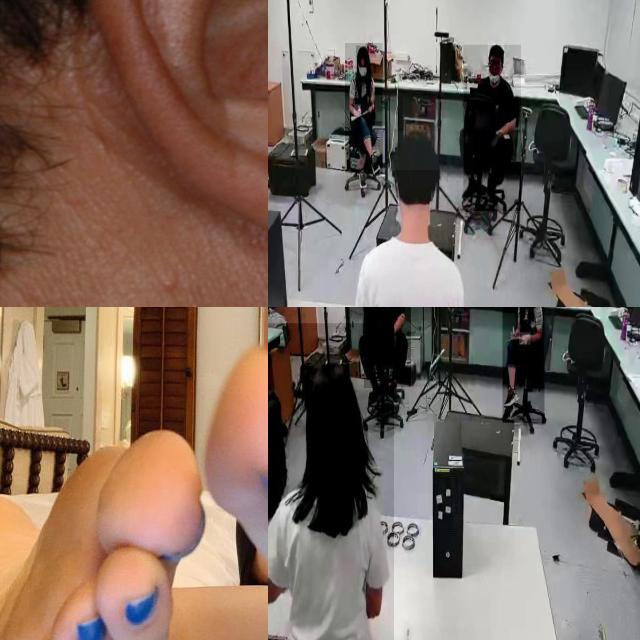Barefoots: (1, 429, 197, 640), (205, 307, 268, 640)
No_Ear-Protection: (79, 0, 268, 270)
face_mask: (356, 56, 371, 84)
face_nomask: (489, 54, 501, 76)
hand_noglove: (519, 332, 531, 346), (510, 326, 520, 340), (366, 103, 374, 117), (354, 104, 362, 118)
head_nohelmet: (305, 360, 357, 413), (392, 131, 438, 170), (488, 44, 504, 55), (356, 46, 369, 57)
person: (268, 323, 394, 640), (355, 133, 473, 307), (464, 45, 522, 212), (502, 307, 545, 423), (345, 43, 383, 174), (364, 307, 411, 388)
shoes: (502, 379, 520, 411)
